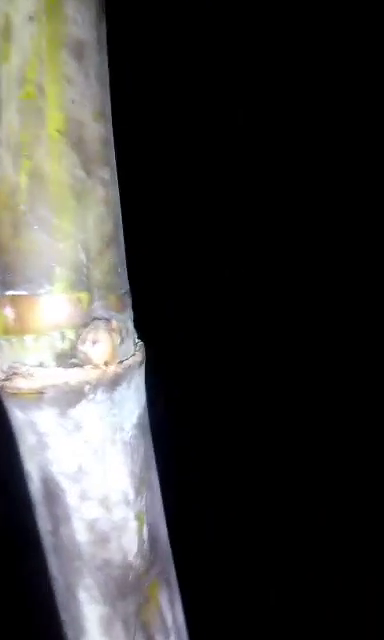cane eye: (78, 318, 123, 367)
